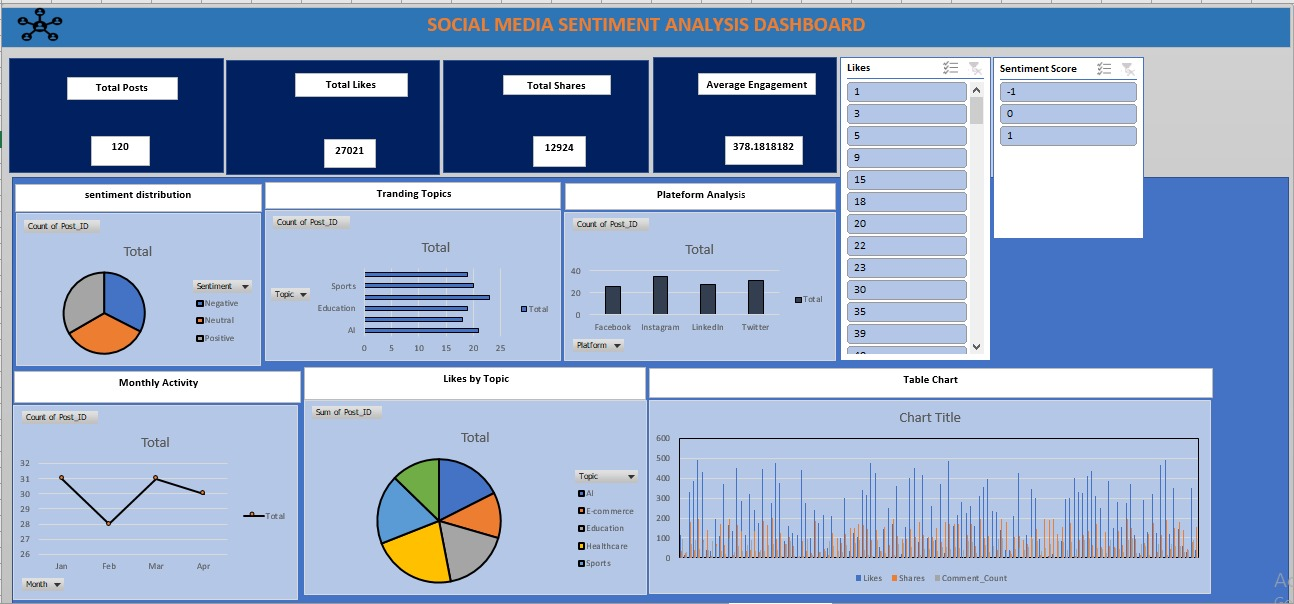

This screenshot's page, from the dashboard's own definition file:
{"tool":"powerbi","page":{"name":"Page 1","canvas":[1280,720],"ordinal":0},"visuals":[{"type":"textbox","box":[10.1,0,1258.2,75.6],"z":0},{"type":"columnChart","fields":{"Y":["Sum(social media sentiment Project.Likes)","Sum(social media sentiment Project.Shares)"],"Category":["social media sentiment Project.Date.Variation.Date Hierarchy.Year","social media sentiment Project.Date.Variation.Date Hierarchy.Quarter","social media sentiment Project.Date.Variation.Date Hierarchy.Month","social media sentiment Project.Date.Variation.Date Hierarchy.Day"]},"box":[0,359.5,682,349.4],"z":1000},{"type":"pieChart","fields":{"Category":["social media sentiment Project.Platform"],"Series":["social media sentiment Project.Topic"],"Y":["Sum(social media sentiment Project.Shares)"]},"box":[695.4,359.5,584.6,349.4],"z":2000},{"type":"cardVisual","fields":{"Data":["CountNonNull(social media sentiment Project.Post_ID)"]},"box":[1056.6,99.1,211.7,243.6],"z":3000},{"type":"cardVisual","fields":{"Data":["Sum(social media sentiment Project.Comment_Count)"]},"box":[797.9,99.1,243.6,243.6],"z":4000},{"type":"cardVisual","fields":{"Data":["Sum(social media sentiment Project.Shares)"]},"box":[572.8,99.1,216.7,243.6],"z":5000},{"type":"cardVisual","fields":{"Data":["Sum(social media sentiment Project.Likes)"]},"box":[341,99.1,211.7,243.6],"z":6000},{"type":"slicer","fields":{"Values":["social media sentiment Project.Platform","social media sentiment Project.Shares"]},"box":[10.1,99.1,319.2,243.6],"z":7000}]}

Visuals, with their boxes on the page's 1280x720 design canvas (x1, y1, x2, y2). These are canvas units, not pixel positions in the 1294x604 screenshot, which may show the page scaled, cropped or inside an application window:
textbox: 10,0,1268,76
columnChart - Sum(social media sentiment Project.Likes) x Sum(social media sentiment Project.Shares): 0,360,682,709
pieChart - social media sentiment Project.Platform x social media sentiment Project.Topic: 695,360,1280,709
cardVisual - CountNonNull(social media sentiment Project.Post_ID): 1057,99,1268,343
cardVisual - Sum(social media sentiment Project.Comment_Count): 798,99,1042,343
cardVisual - Sum(social media sentiment Project.Shares): 573,99,790,343
cardVisual - Sum(social media sentiment Project.Likes): 341,99,553,343
slicer - social media sentiment Project.Platform x social media sentiment Project.Shares: 10,99,329,343
